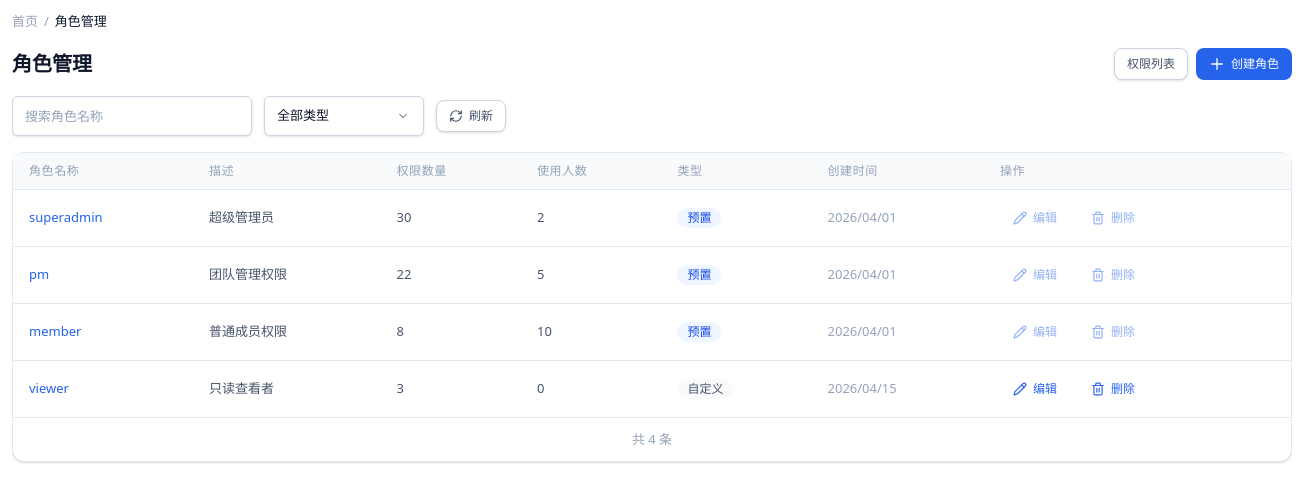
Test: RoleManagementPage › filters roles by search text
Expected: the button "superadmin" is shown, [29,208,102,227]
In the field with placeholder "搜索角色名称": (132, 116) [12,96,252,136], type "view"
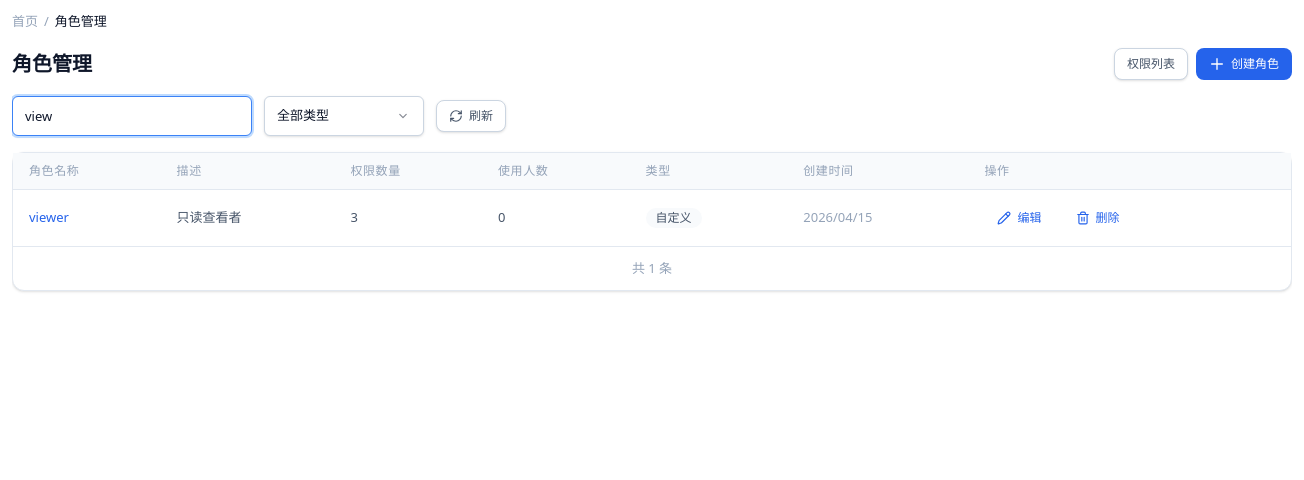
Expected: the button "viewer" is shown, [29,208,69,227]
Now the button "superadmin" is gone
